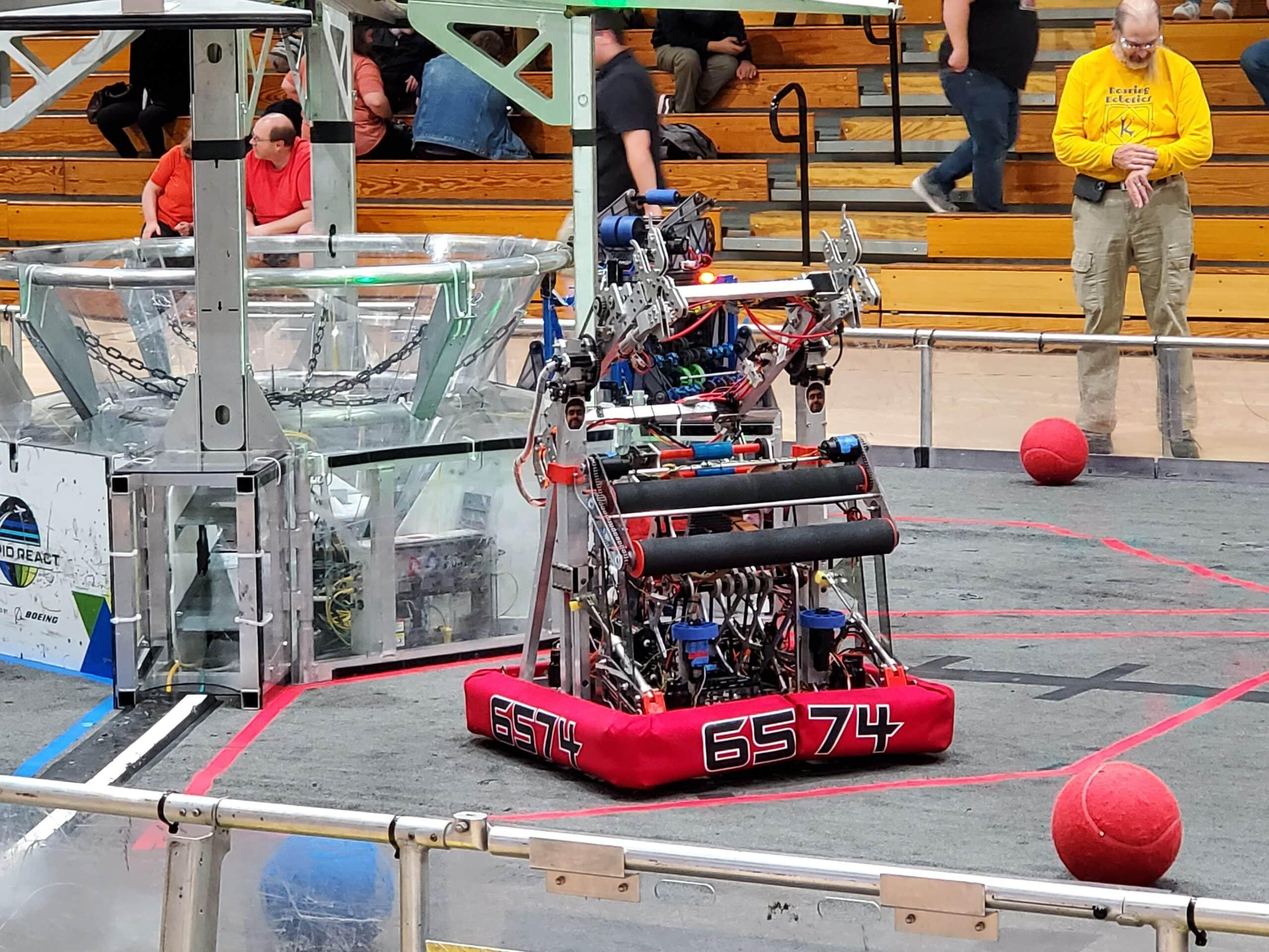robot: (460, 187, 964, 806)
